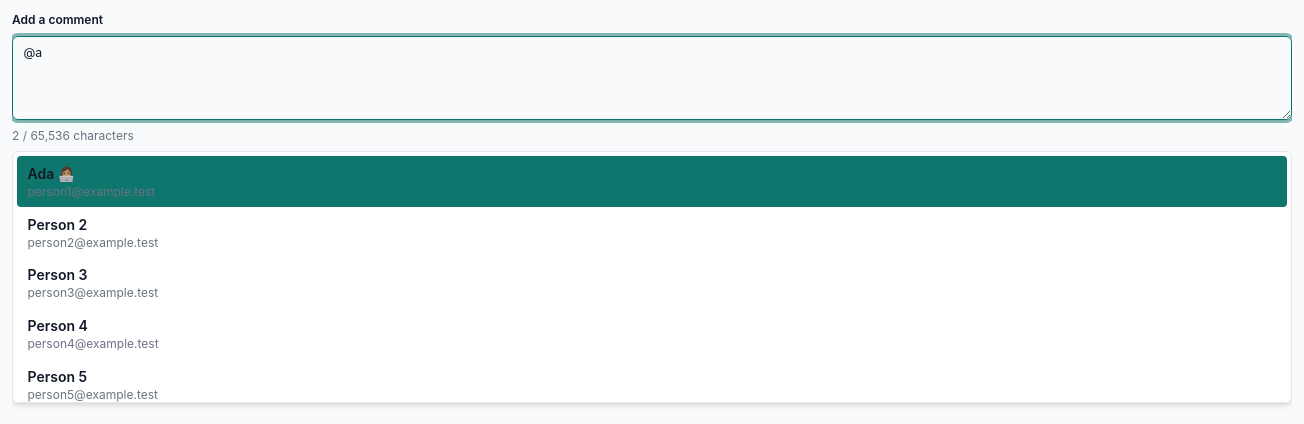
Test: MentionComposer autocomplete › supports pointer selection without transferring DOM focus
Press the mouse on the option "Ada 👩🏽‍💻 person1@example.test" at (51, 174), box [17, 156, 1287, 207]
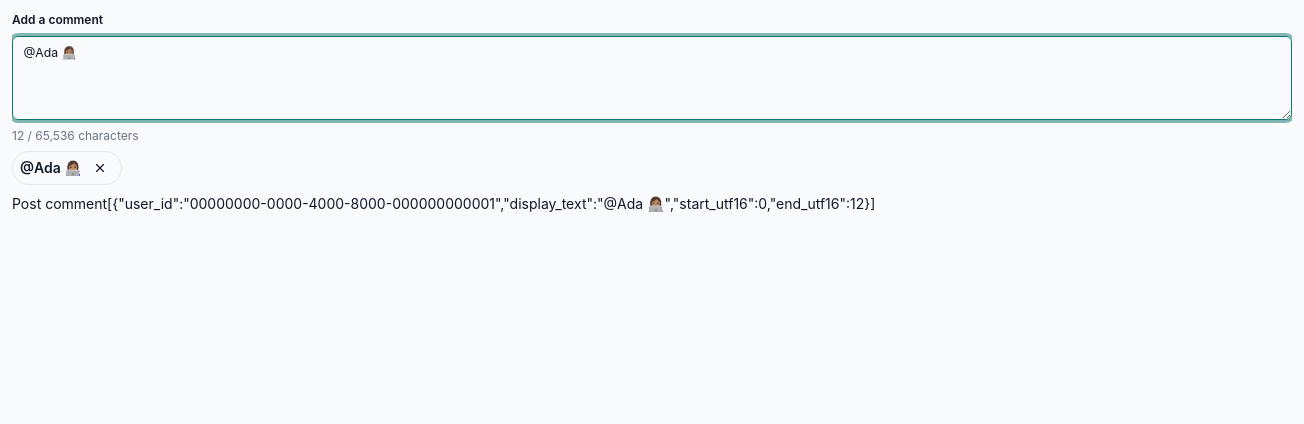
Result: the text box labelled "Add a comment" holds "@Ada 👩🏽‍💻" at [12, 36, 1292, 120]
